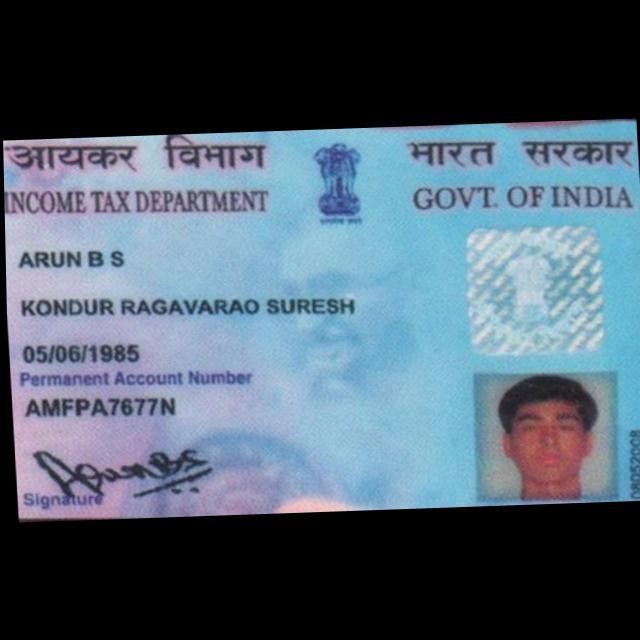pan: (2, 118, 640, 522)
